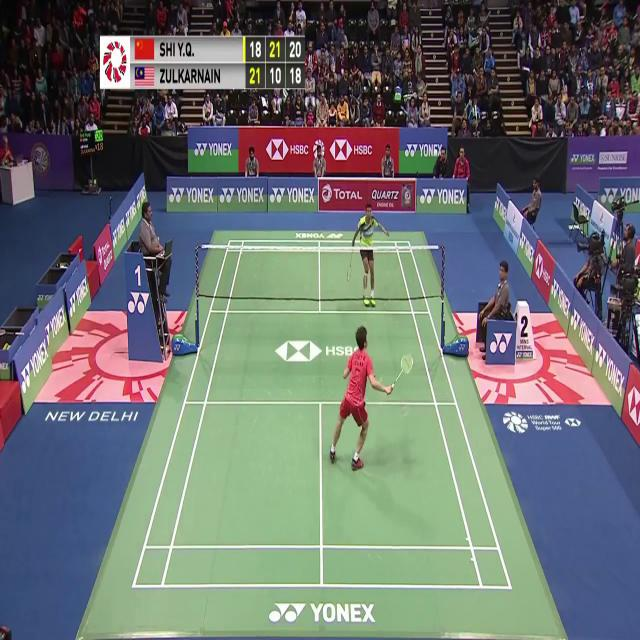Shuttlecock: (432, 147, 438, 159)
